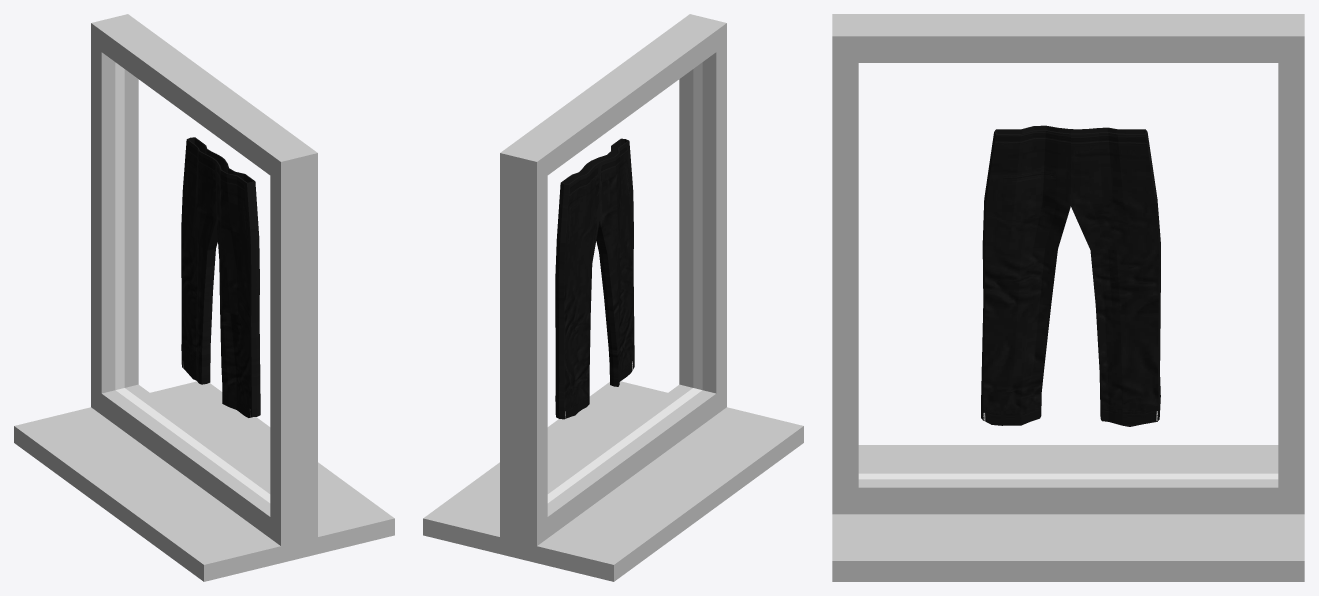
The model's file is chino_black.glb.
3 views of the same model, side by side, from view 1: azimuth 30°, elevation 25°; view 2: azimuth 150°, elevation 25°; view 3: azimuth 270°, elevation 25° (orthographic). The views are drawn at different scales.
Visible parts, largest first — view 1: Cube.012, Plane.326; view 2: Cube.012, Plane.326; view 3: Cube.012, Plane.326.
Part boxes in pixels (<box>): Cube.012: <box>14,14,394,581</box>; Plane.326: <box>181,137,260,417</box>; Cube.012: <box>423,14,803,581</box>; Plane.326: <box>555,138,634,419</box>; Cube.012: <box>832,14,1304,581</box>; Plane.326: <box>981,125,1160,426</box>.
Bounding box in the file's own units: 0.362 × 0.7276 × 0.6242.
Materials: 3 (1 with a texture image).
